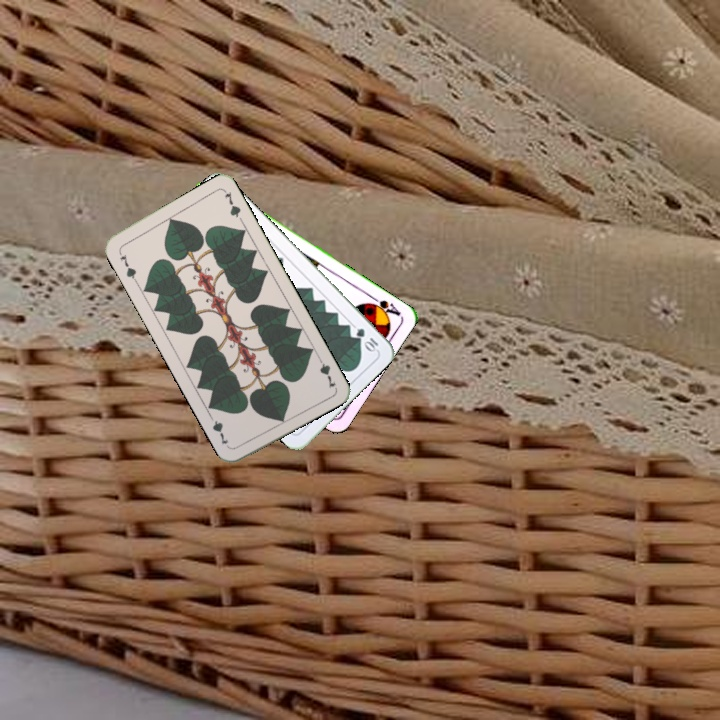G10: (352, 324, 381, 354)
G7: (313, 352, 339, 391), (115, 247, 140, 285)
SA: (363, 291, 403, 320)
